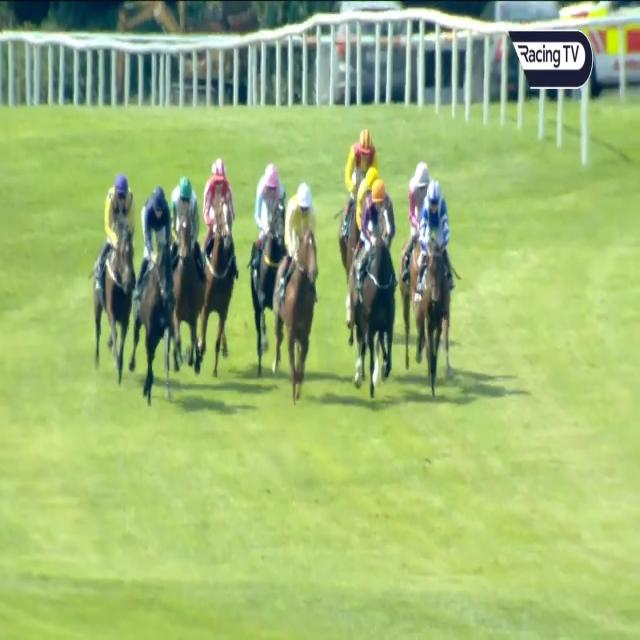horses-racing: (276, 180, 320, 398), (352, 180, 396, 396), (135, 187, 178, 399), (410, 178, 452, 389), (95, 176, 134, 387), (169, 168, 204, 375), (205, 155, 236, 379), (255, 162, 286, 364), (342, 124, 382, 198), (352, 168, 392, 232), (407, 158, 431, 238)
